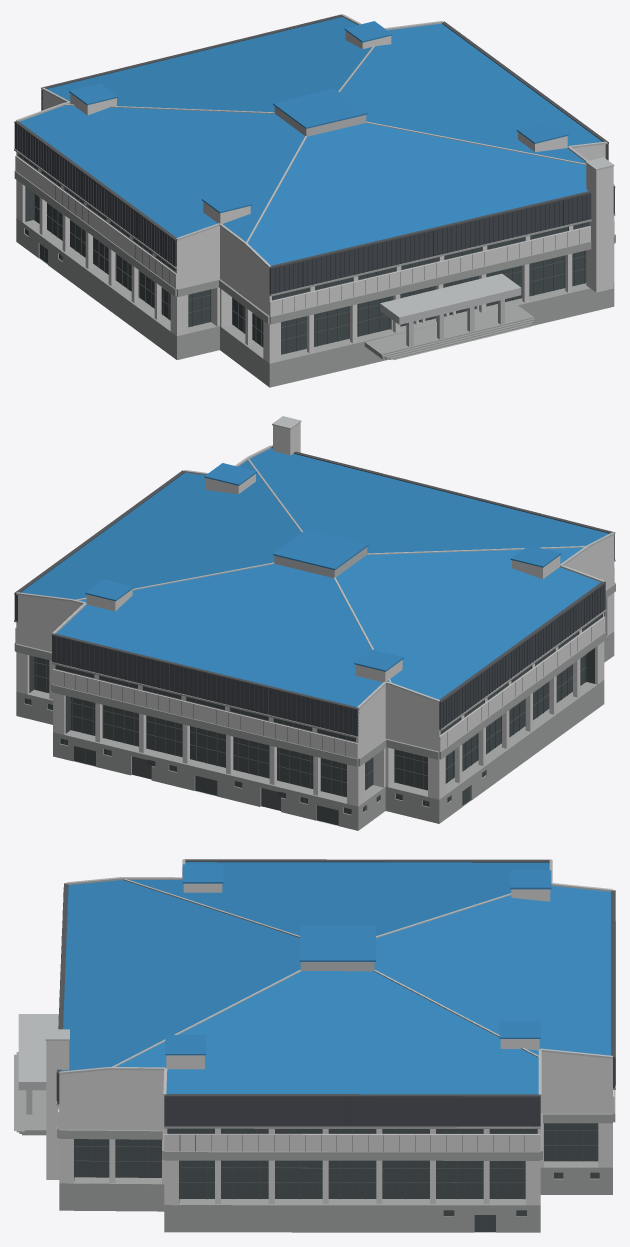
The picture shows the model from 3 angles, top to bottom: view 1: azimuth 30°, elevation 25°; view 2: azimuth 150°, elevation 25°; view 3: azimuth 270°, elevation 25°; orthographic projection. The views are drawn at different scales.
Parts seen in each view (by area): view 1: olympicGym__roof, olympicGym__white, olympicGym__concrete, olympicGym__dark, olympicGym__glass, olympicGym__frame, olympicGym__trim; view 2: olympicGym__roof, olympicGym__white, olympicGym__concrete, olympicGym__glass, olympicGym__dark, olympicGym__frame, olympicGym__trim; view 3: olympicGym__roof, olympicGym__white, olympicGym__concrete, olympicGym__glass, olympicGym__dark, olympicGym__frame, olympicGym__trim.
Part boxes in pixels (left/top/right/bottom): olympicGym__roof: left=20, top=17, right=602, bottom=265; olympicGym__white: left=15, top=31, right=614, bottom=363; olympicGym__concrete: left=14, top=148, right=615, bottom=387; olympicGym__dark: left=14, top=90, right=614, bottom=294; olympicGym__glass: left=18, top=154, right=589, bottom=354; olympicGym__frame: left=14, top=14, right=615, bottom=353; olympicGym__trim: left=16, top=14, right=614, bottom=346; olympicGym__roof: left=21, top=448, right=608, bottom=706; olympicGym__white: left=15, top=422, right=614, bottom=806; olympicGym__concrete: left=14, top=559, right=615, bottom=830; olympicGym__glass: left=24, top=612, right=604, bottom=825; olympicGym__dark: left=14, top=534, right=614, bottom=736; olympicGym__frame: left=14, top=445, right=615, bottom=822; olympicGym__trim: left=16, top=416, right=614, bottom=709; olympicGym__roof: left=61, top=862, right=610, bottom=1094; olympicGym__white: left=46, top=883, right=614, bottom=1205; olympicGym__concrete: left=14, top=921, right=615, bottom=1232; olympicGym__glass: left=74, top=1123, right=599, bottom=1231; olympicGym__dark: left=56, top=887, right=615, bottom=1126; olympicGym__frame: left=56, top=859, right=615, bottom=1231; olympicGym__trim: left=18, top=859, right=612, bottom=1114.
Size of the model in its own units: 83.92 by 28.35 by 89.97.
